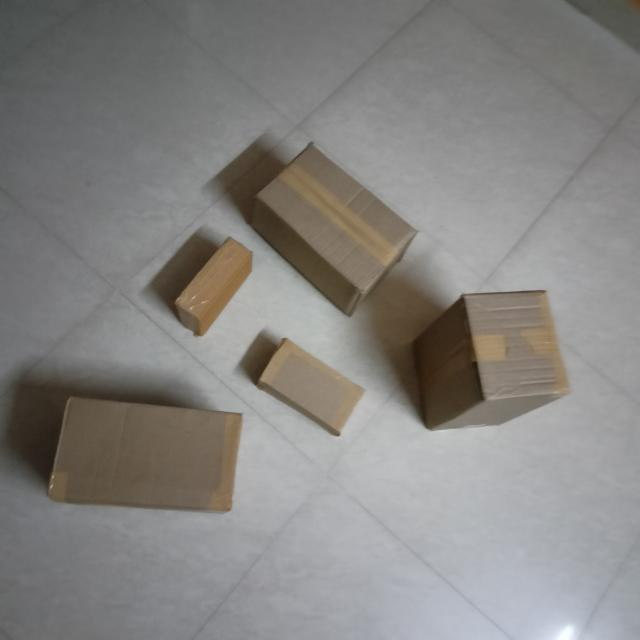box: (260, 143, 418, 294), (52, 399, 243, 508), (467, 290, 569, 402), (263, 340, 364, 435), (177, 238, 250, 318)
